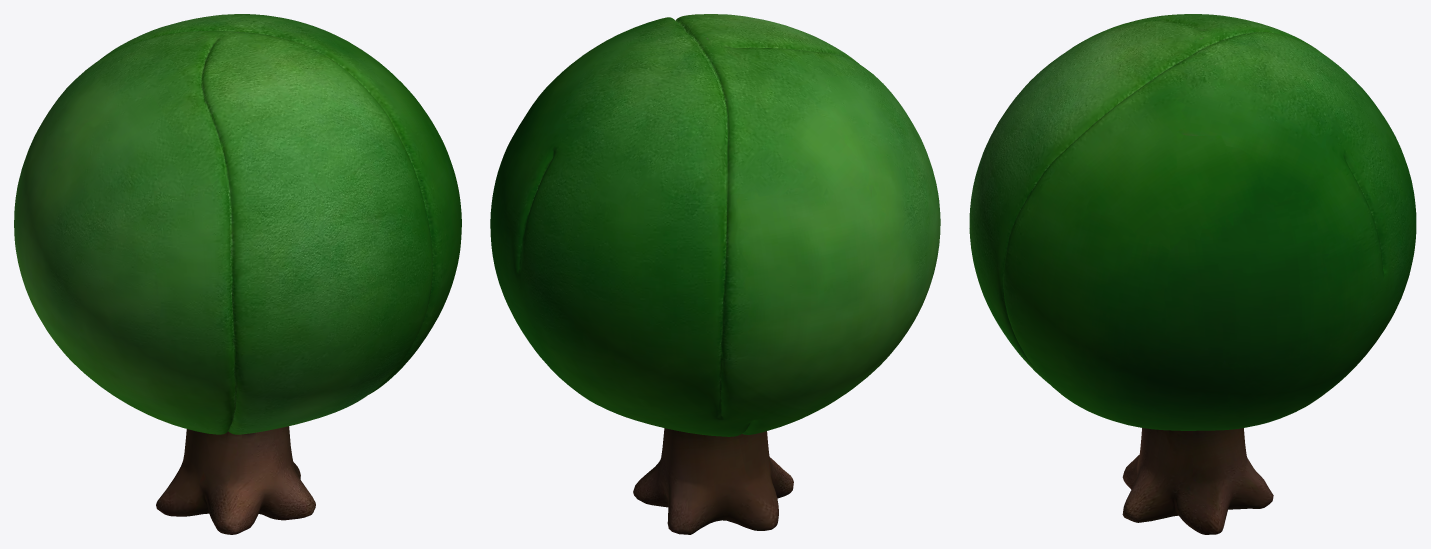
Rendered from roundtree.glb.
The picture shows the model from 3 angles, left to right: view 1: azimuth 30°, elevation 25°; view 2: azimuth 150°, elevation 25°; view 3: azimuth 270°, elevation 25°; orthographic projection.
Visible parts, largest first — view 1: tripo_node_3a0fada7-44ae-4020-bef4-3a9d7ce2e4f8; view 2: tripo_node_3a0fada7-44ae-4020-bef4-3a9d7ce2e4f8; view 3: tripo_node_3a0fada7-44ae-4020-bef4-3a9d7ce2e4f8.
Part boxes in pixels (left/top/right/bottom): tripo_node_3a0fada7-44ae-4020-bef4-3a9d7ce2e4f8: left=14, top=14, right=461, bottom=534; tripo_node_3a0fada7-44ae-4020-bef4-3a9d7ce2e4f8: left=490, top=14, right=940, bottom=534; tripo_node_3a0fada7-44ae-4020-bef4-3a9d7ce2e4f8: left=969, top=14, right=1416, bottom=534.
Size of the model in its own units: 0.8632 by 1 by 0.8638.
Materials: 1 (1 with a texture image).
